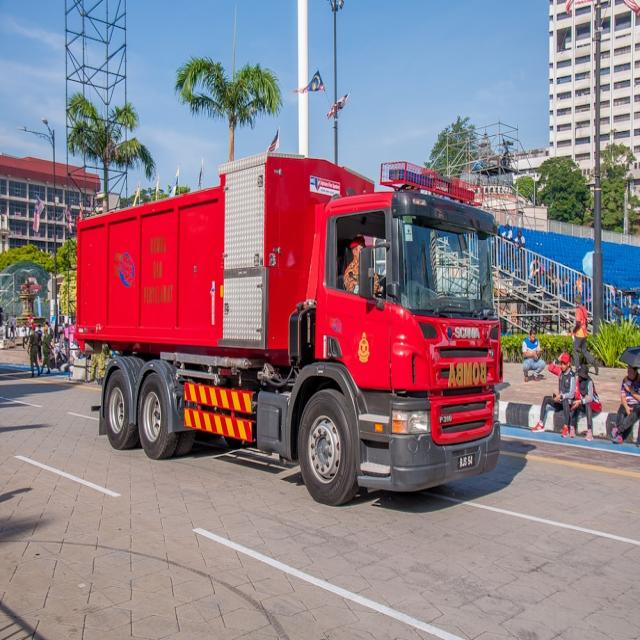emergency: (75, 152, 501, 505)
